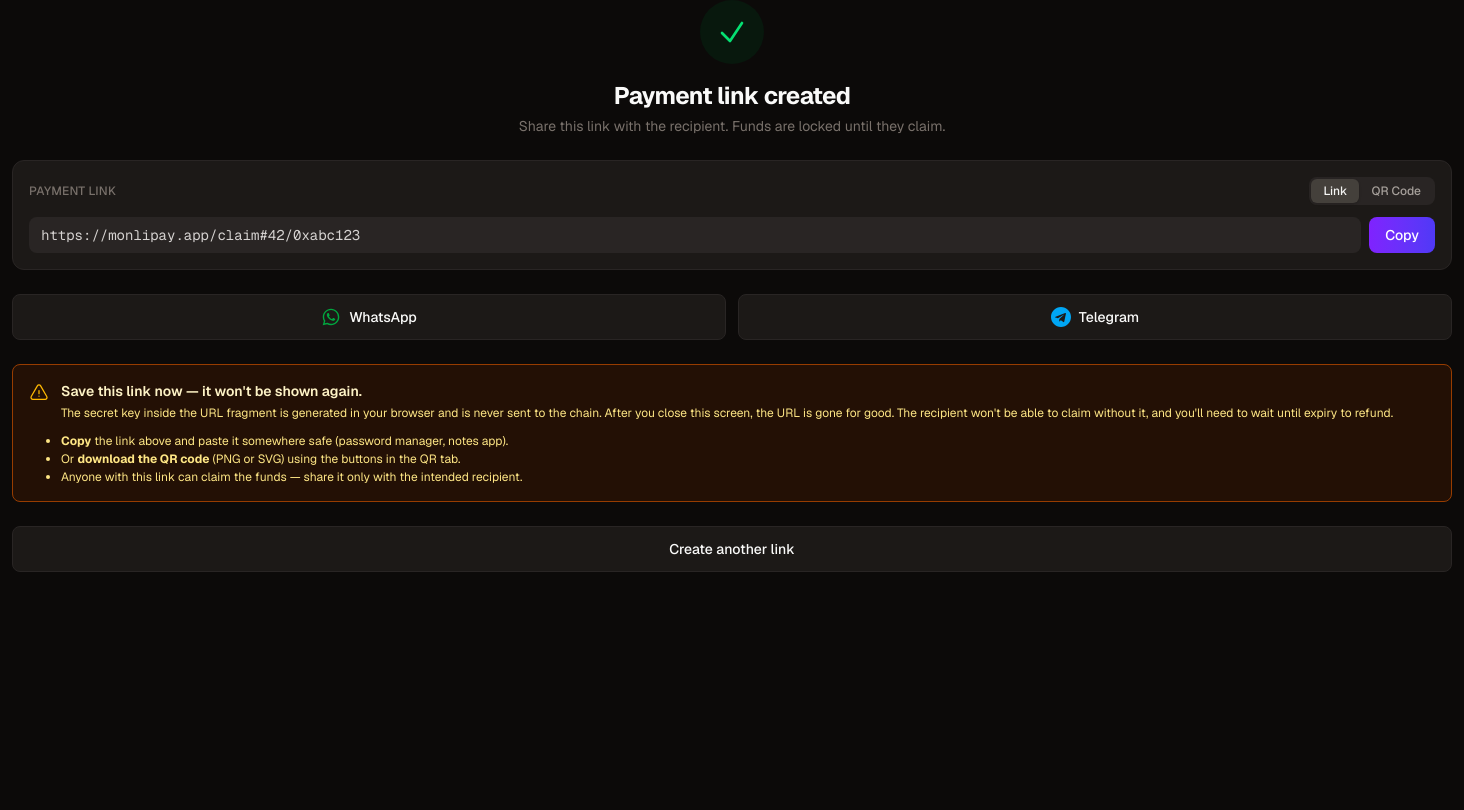
Test: ShareLink › should show 'Copied!' after clicking Copy
Click the button "Copy" at [1402, 235], box [1369, 217, 1435, 253]
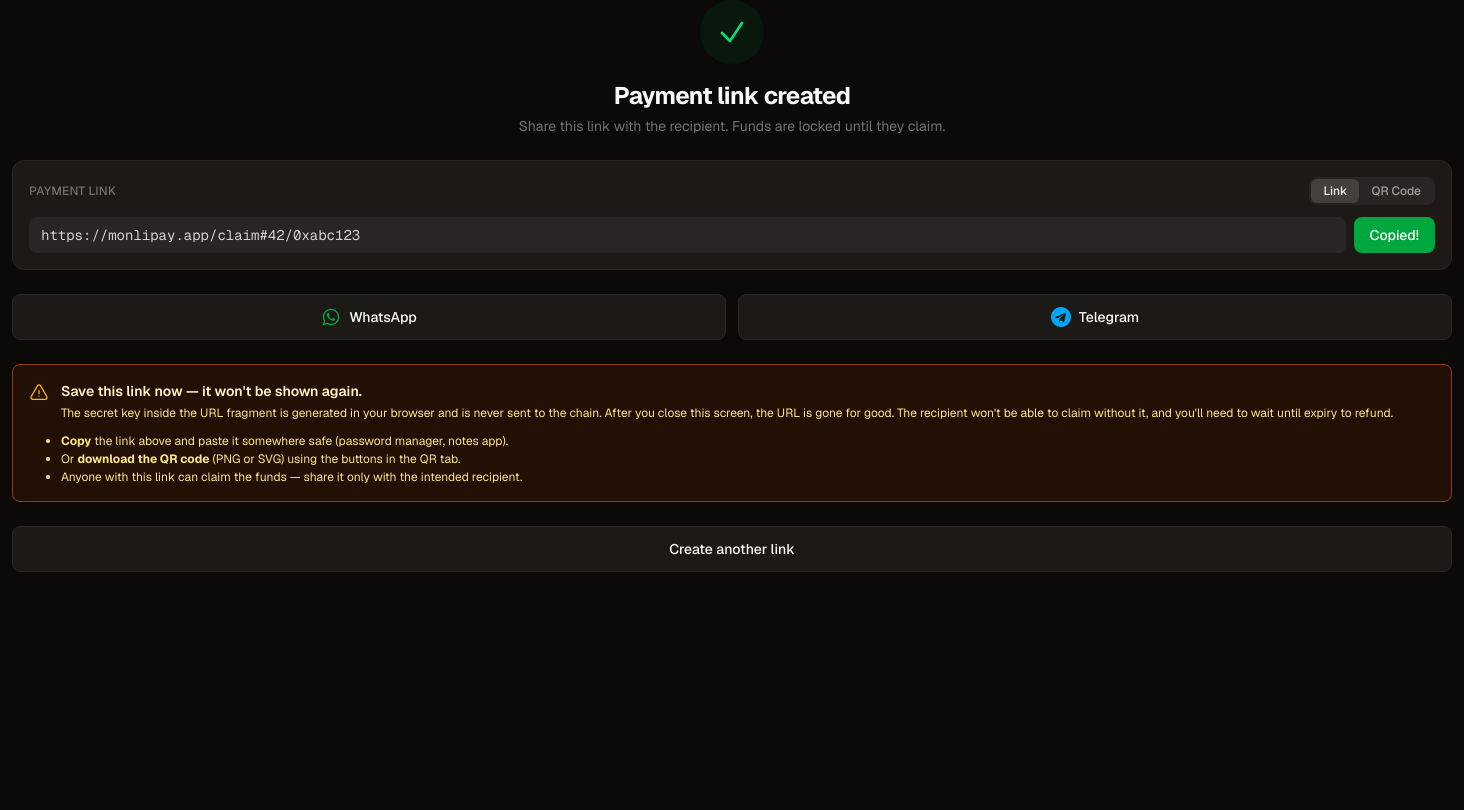
expect the button "Copied!" is shown: met, box [1354, 217, 1435, 253]
